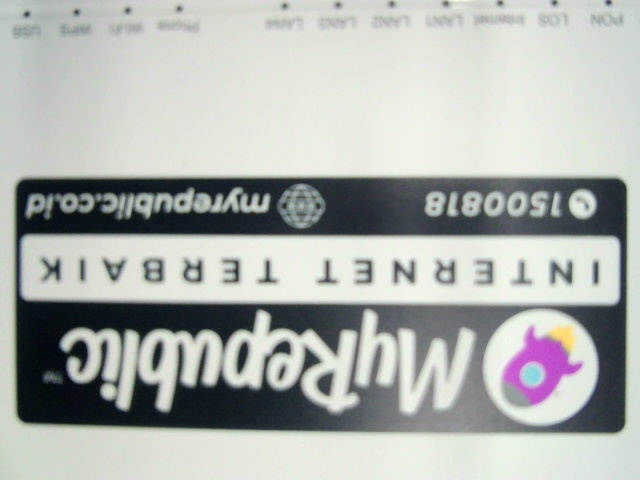BD_MyRepublic: (8, 174, 631, 433)
